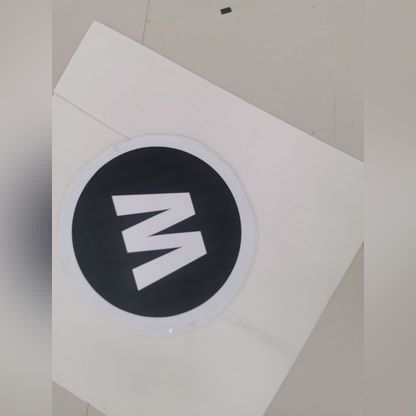W: (76, 151, 256, 309)
